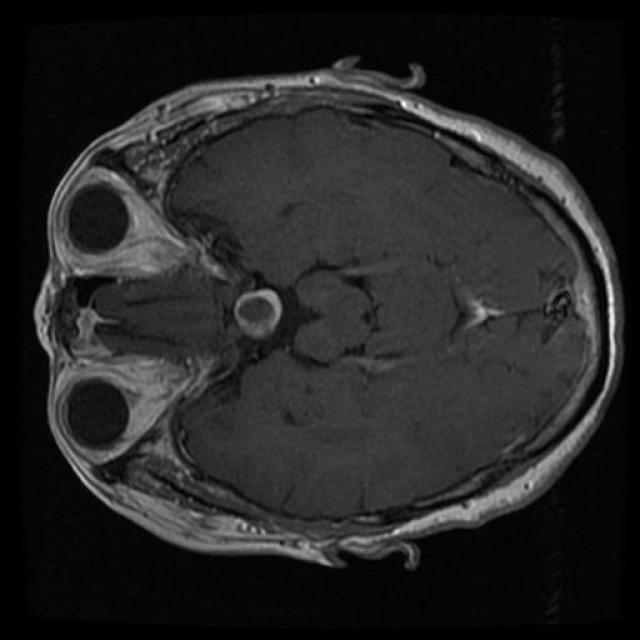Pituitary: (234, 290, 282, 340)
